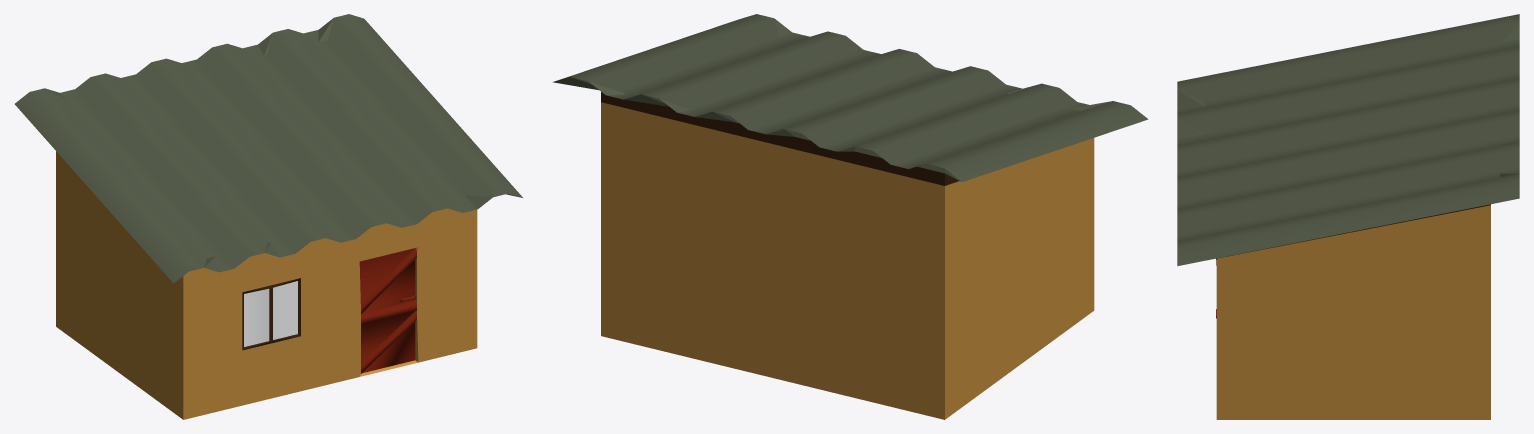
Rendered from Zink Shack.fbx.
3 views of the same model, side by side, from view 1: azimuth 30°, elevation 25°; view 2: azimuth 150°, elevation 25°; view 3: azimuth 270°, elevation 25° (orthographic). The views are drawn at different scales.
Visible parts, largest first — view 1: Box001; view 2: Box001; view 3: Box001.
Part boxes in pixels (box(x1,y1,x2,y2)): Box001: box(14, 14, 522, 419); Box001: box(552, 14, 1148, 419); Box001: box(1177, 14, 1519, 419).
Size of the model in its own units: 117 by 73 by 92.47.
